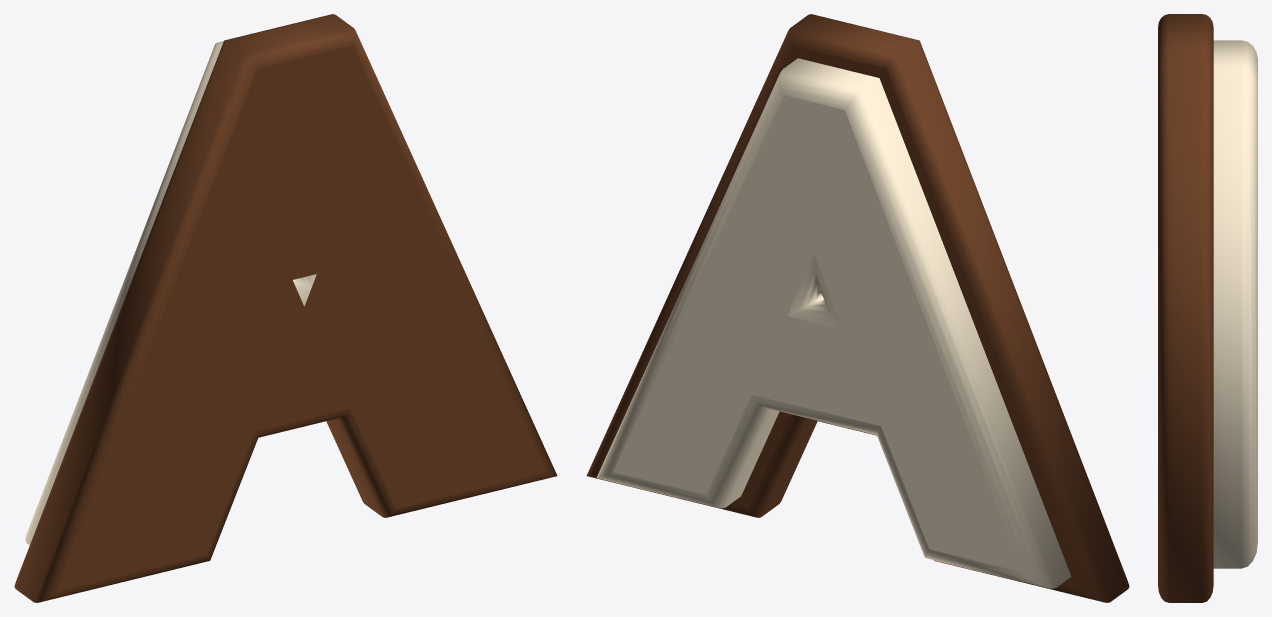
File: Letter_A.fbx
3 views of the same model, side by side, from view 1: azimuth 30°, elevation 25°; view 2: azimuth 150°, elevation 25°; view 3: azimuth 270°, elevation 25° (orthographic). The views are drawn at different scales.
Parts seen in each view (by area): view 1: Letter_A; view 2: Letter_A; view 3: Letter_A.
Boxes of the visible parts, bbox=[...] form: Letter_A: bbox=[14, 14, 557, 602]; Letter_A: bbox=[586, 14, 1129, 602]; Letter_A: bbox=[1158, 14, 1257, 602].
Bounding box in the file's own units: 0.9876 × 0.896 × 0.18.
1 material, 1 textured.
